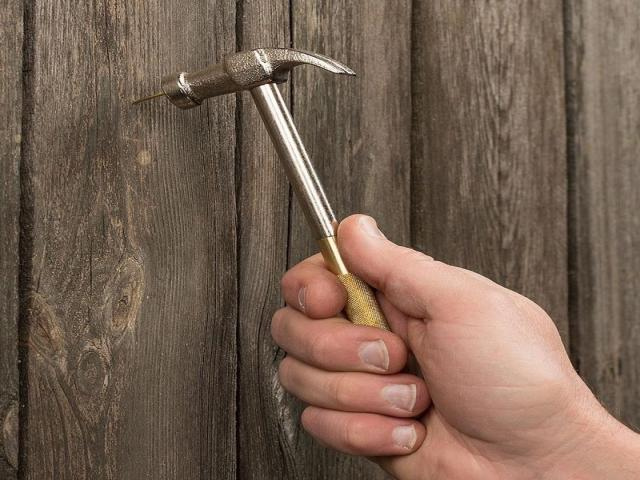Hammer: (161, 48, 388, 330)
Hand: (272, 215, 640, 480)
